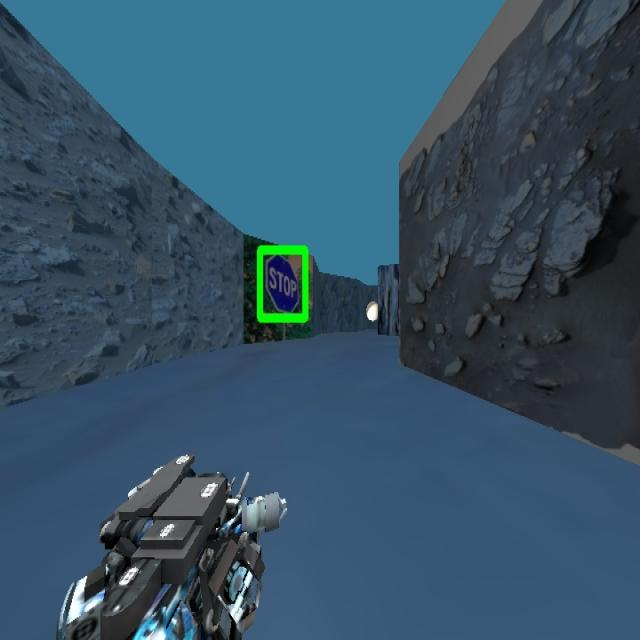Circle: (365, 300, 378, 321)
Stop_Sign: (255, 243, 309, 324)
